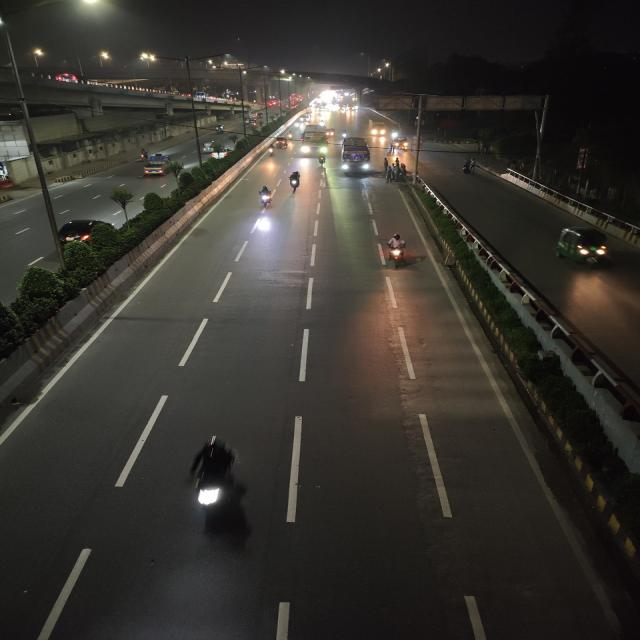bus: (339, 136, 373, 178), (300, 125, 328, 157)
car: (49, 216, 111, 250)
cng: (551, 224, 614, 270), (393, 137, 410, 150), (202, 139, 215, 153), (274, 137, 288, 150)
motorcycle: (176, 430, 259, 532), (375, 232, 415, 272), (254, 184, 276, 210), (287, 169, 302, 193), (316, 154, 328, 170), (267, 146, 277, 160)
pedestrian: (460, 158, 478, 176), (390, 158, 400, 180), (385, 168, 394, 184)
pickup_van: (142, 153, 176, 177)
truck: (368, 117, 386, 137)
